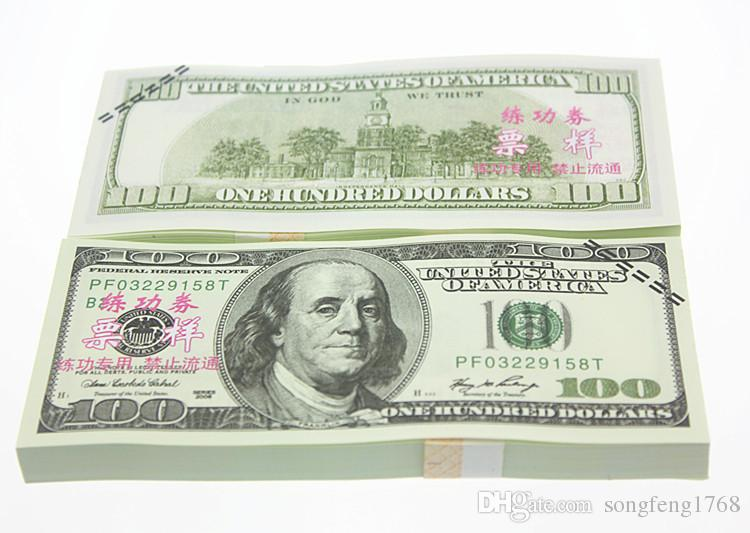cash: (17, 234, 706, 448), (68, 53, 681, 236)
